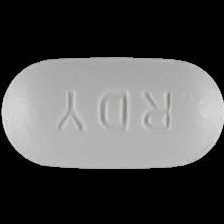55111-121: (0, 0, 224, 224)
